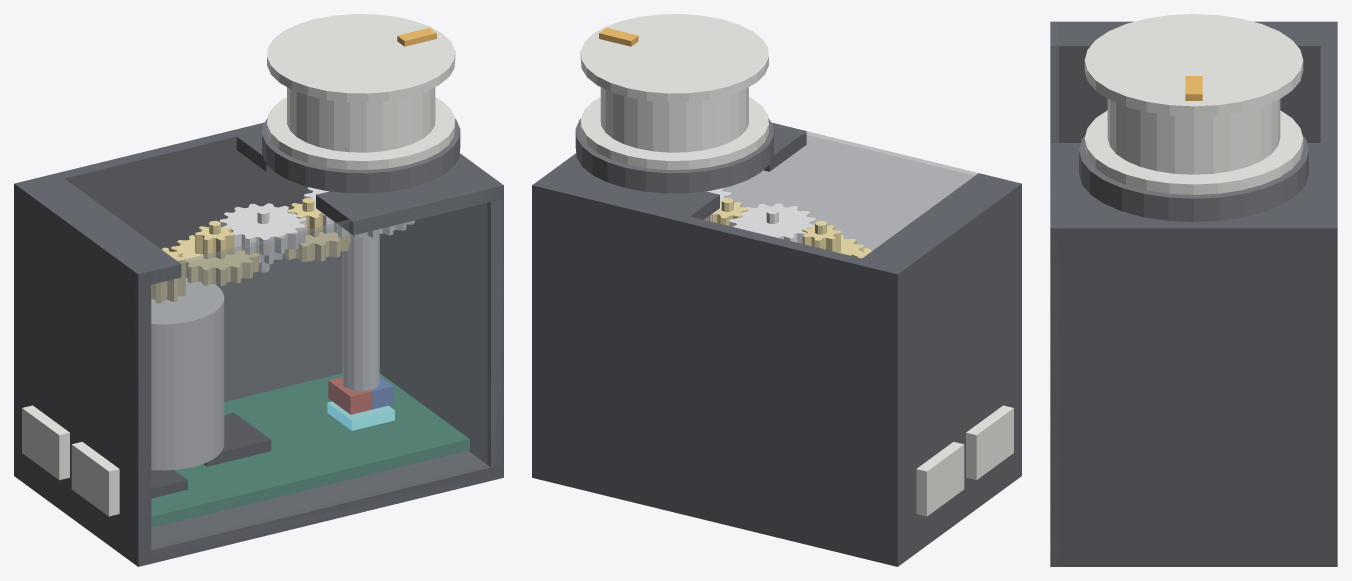
The model's file is servo.glb.
3 renders of one model, left to right at view 1: azimuth 30°, elevation 25°; view 2: azimuth 150°, elevation 25°; view 3: azimuth 270°, elevation 25°, orthographic. The views are drawn at different scales.
Visible parts, largest first — view 1: SV_shell, SV_front, SV_spool, SV_pcb, SV_motor, SV_out, SV_conn, SV_horn, SV_g2, SV_g1, SV_g3, SV_mcu (+4 smaller); view 2: SV_shell, SV_spool, SV_front, SV_conn, SV_horn, SV_g2, SV_g1, SV_g3; view 3: SV_shell, SV_spool, SV_horn, SV_front, SV_mark.
Part boxes in pixels (box(x1,y1,x2,y2)): SV_shell: box(14, 122, 503, 566); SV_front: box(135, 188, 503, 556); SV_spool: box(267, 14, 455, 169); SV_pcb: box(151, 373, 469, 527); SV_motor: box(151, 278, 224, 470); SV_out: box(304, 187, 414, 391); SV_conn: box(22, 405, 119, 516); SV_horn: box(262, 118, 460, 193); SV_g2: box(220, 203, 306, 272); SV_g1: box(170, 220, 259, 285); SV_g3: box(283, 198, 350, 262); SV_mcu: box(203, 413, 271, 466); SV_shell: box(532, 122, 1021, 566); SV_spool: box(580, 14, 768, 169); SV_front: box(727, 127, 1015, 250); SV_conn: box(916, 405, 1013, 516); SV_horn: box(575, 118, 773, 193); SV_g2: box(729, 203, 815, 243); SV_g1: box(802, 220, 864, 255); SV_g3: box(709, 198, 748, 225); SV_shell: box(1050, 21, 1337, 566); SV_spool: box(1084, 14, 1303, 194); SV_horn: box(1079, 135, 1308, 221); SV_front: box(1050, 41, 1058, 551); SV_mark: box(1185, 76, 1202, 100).
Bounding box in the file's own units: 3.55 × 3.59 × 2.
